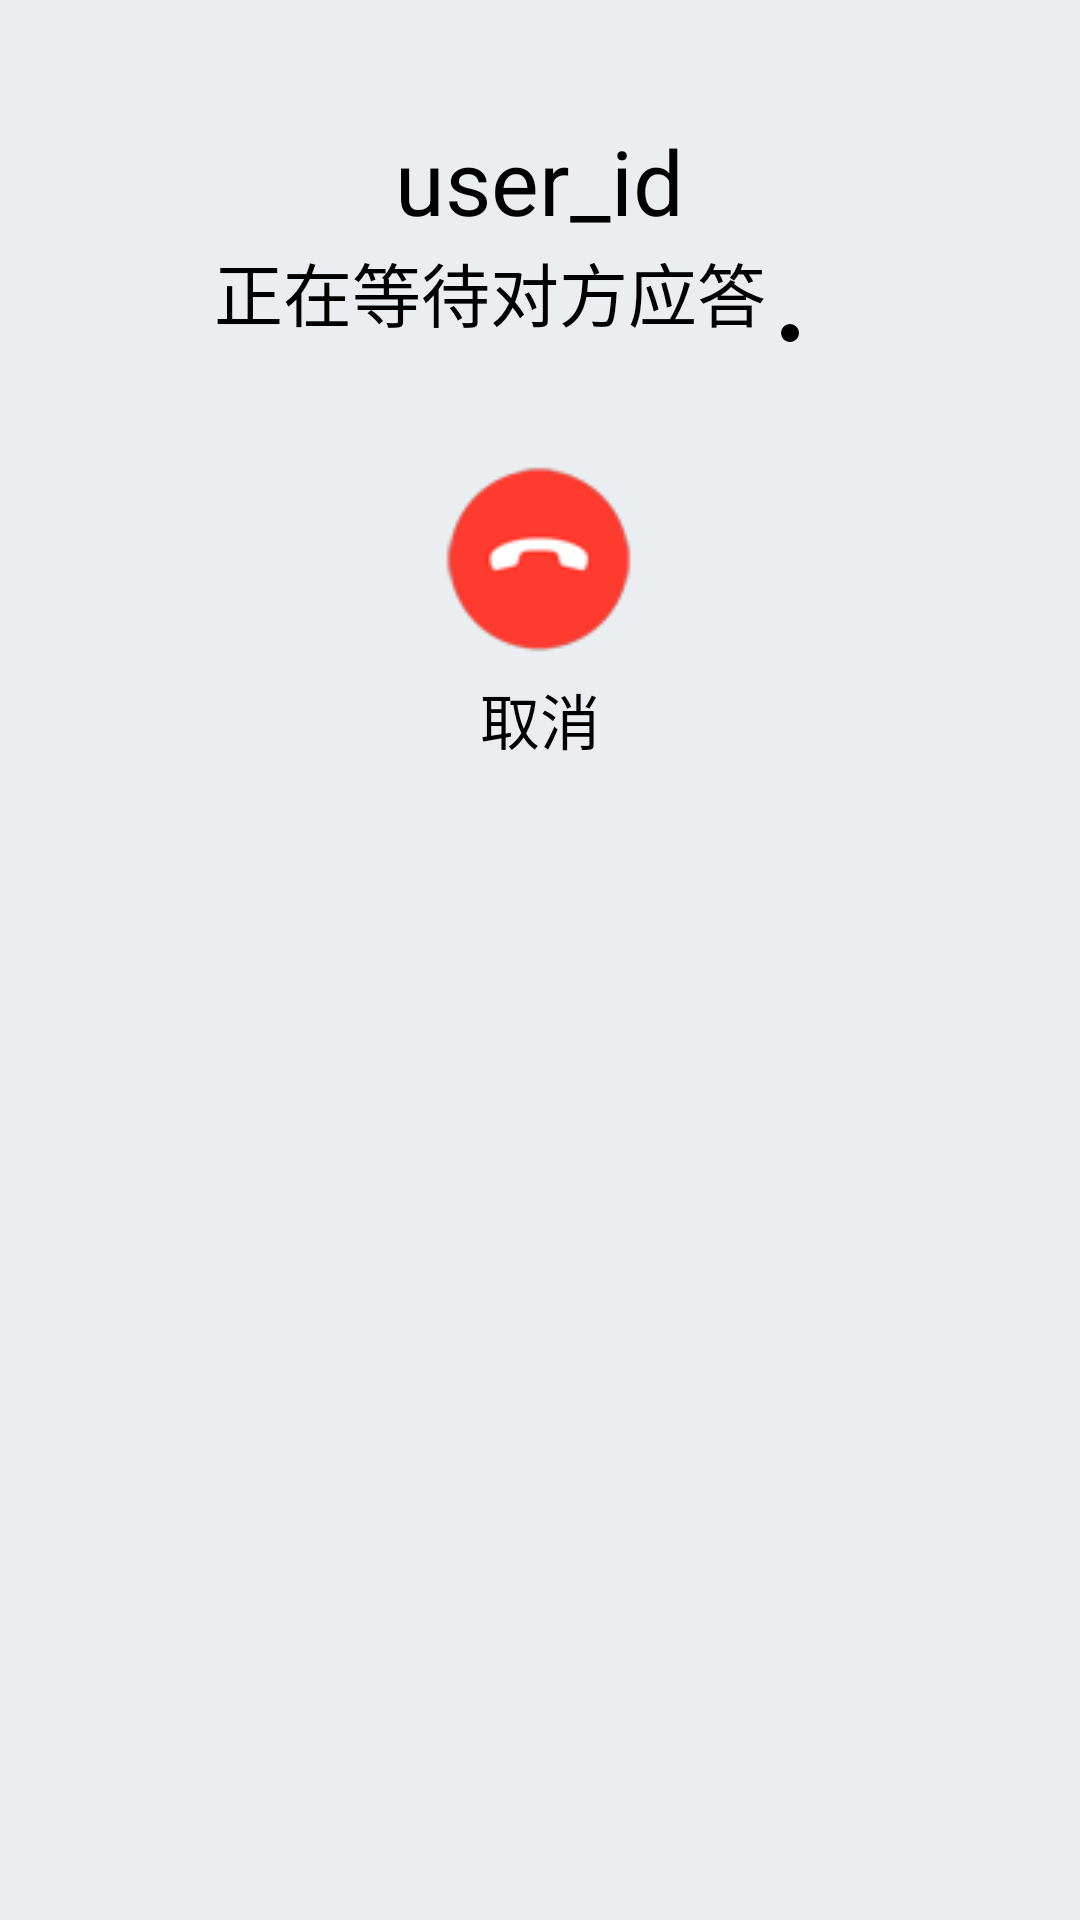

Icon bounding boxes for this 1080×1920 phone screenshot, format BBox(x1, y1, x2, y2):
hangup: BBox(446, 467, 631, 651)
